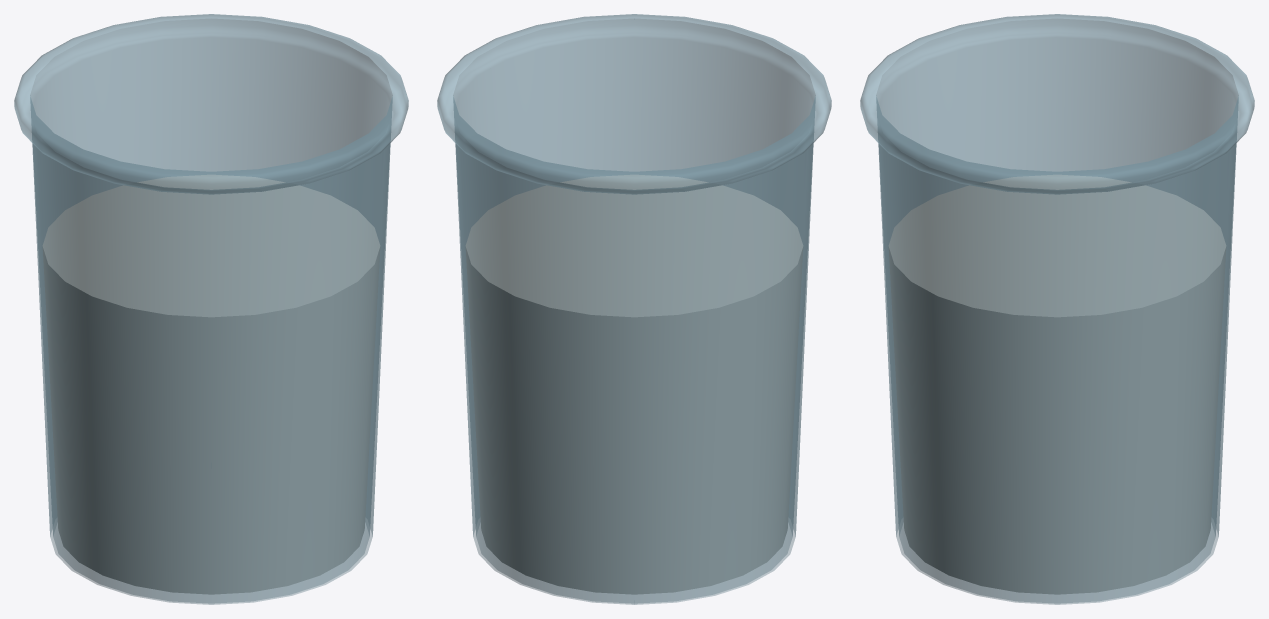
Rendered from Susu.fbx.
The picture shows the model from 3 angles, left to right: view 1: azimuth 30°, elevation 25°; view 2: azimuth 150°, elevation 25°; view 3: azimuth 270°, elevation 25°; orthographic projection.
Visible parts, largest first — view 1: pCylinder1, pCylinder2; view 2: pCylinder1, pCylinder2; view 3: pCylinder1, pCylinder2.
Boxes of the visible parts, x1,y1,x2,y2 form: pCylinder1: [14, 14, 408, 604]; pCylinder2: [43, 175, 379, 594]; pCylinder1: [437, 14, 831, 604]; pCylinder2: [466, 175, 802, 594]; pCylinder1: [860, 14, 1254, 604]; pCylinder2: [889, 175, 1225, 594].
Size of the model in its own units: 2.12 by 2.62 by 2.12.
